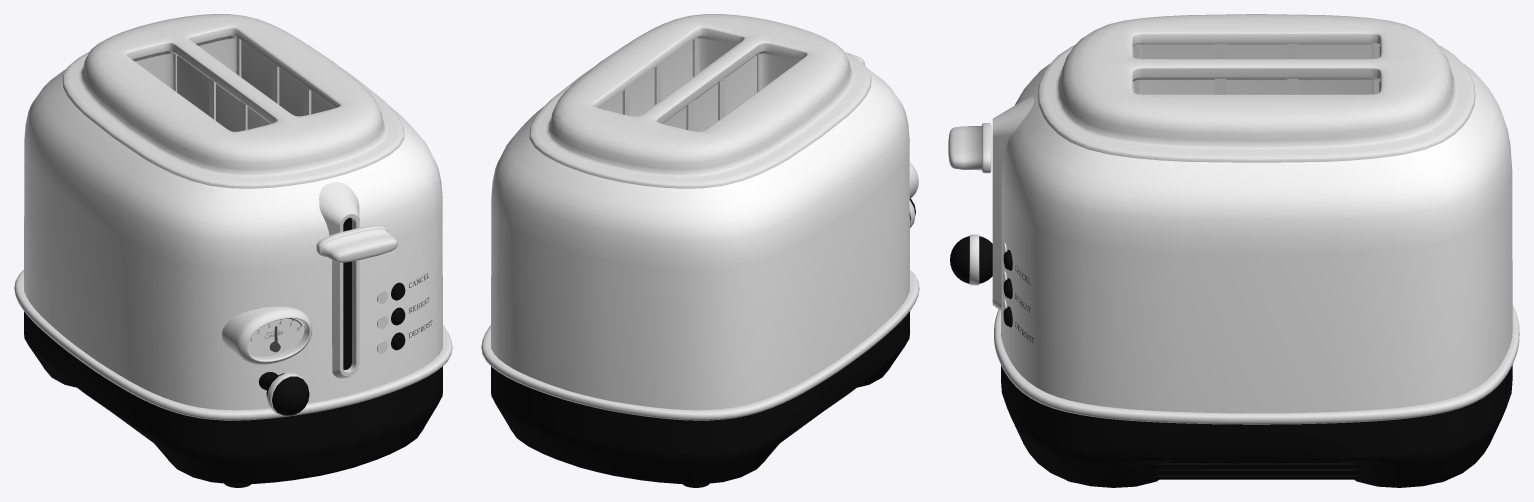
Rendered from toasterM2.glb.
3 views of the same model, side by side, from view 1: azimuth 30°, elevation 25°; view 2: azimuth 150°, elevation 25°; view 3: azimuth 270°, elevation 25° (orthographic). The views are drawn at different scales.
Visible parts, largest first — view 1: Cube, Cube.001, Cylinder, Cube.010, Cube.008, Cube.012, Sphere, Plane.001, Cylinder.002, Cube.006, Cube.004; view 2: Cube, Cube.001, Cube.006, Cube.004; view 3: Cube, Cube.001, Cube.013, Cylinder, Cube.008, Sphere, Cylinder.002.
Part boxes in pixels (x1=…): Cube: x1=24, y1=14, x2=442, y2=484; Cube.001: x1=14, y1=270, x2=452, y2=420; Cylinder: x1=319, y1=182, x2=359, y2=378; Cube.010: x1=222, y1=306, x2=312, y2=364; Cube.008: x1=316, y1=225, x2=397, y2=262; Cube.012: x1=248, y1=318, x2=307, y2=358; Sphere: x1=259, y1=372, x2=309, y2=415; Plane.001: x1=248, y1=318, x2=304, y2=356; Cylinder.002: x1=377, y1=282, x2=405, y2=353; Cube.006: x1=272, y1=63, x2=311, y2=115; Cube.004: x1=209, y1=78, x2=247, y2=130; Cube: x1=491, y1=14, x2=909, y2=484; Cube.001: x1=481, y1=270, x2=919, y2=420; Cube.006: x1=622, y1=63, x2=661, y2=115; Cube.004: x1=686, y1=78, x2=724, y2=130; Cube: x1=1001, y1=14, x2=1512, y2=487; Cube.001: x1=994, y1=305, x2=1519, y2=424; Cube.013: x1=1151, y1=460, x2=1361, y2=479; Cylinder: x1=992, y1=96, x2=1034, y2=310; Cube.008: x1=948, y1=123, x2=991, y2=173; Sphere: x1=950, y1=234, x2=992, y2=285; Cylinder.002: x1=1003, y1=243, x2=1012, y2=327.
Size of the model in its own units: 2.79 by 2.79 by 3.87.
Materials: 6 (1 with a texture image).
